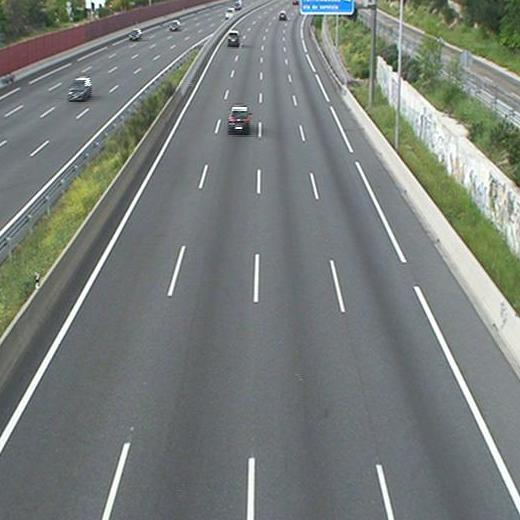car: (229, 107, 250, 131), (227, 30, 240, 46), (278, 11, 287, 20)
